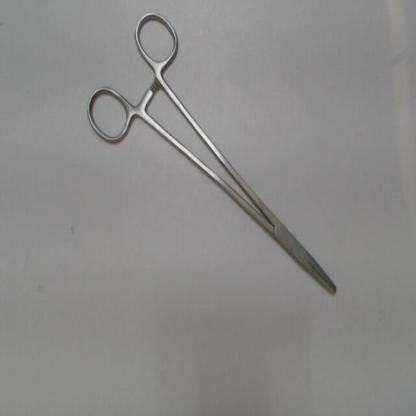8 Mayo Needle Holder: (77, 4, 350, 310)
